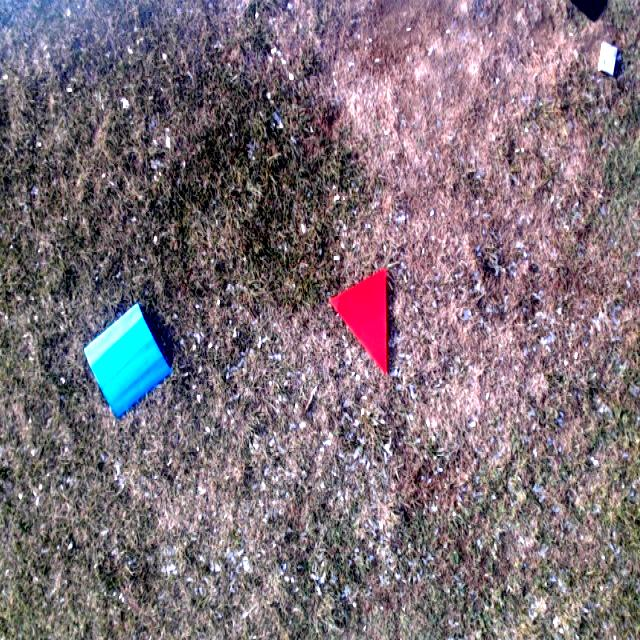blue_square: (86, 303, 172, 416)
red_triangle: (330, 268, 388, 377)
